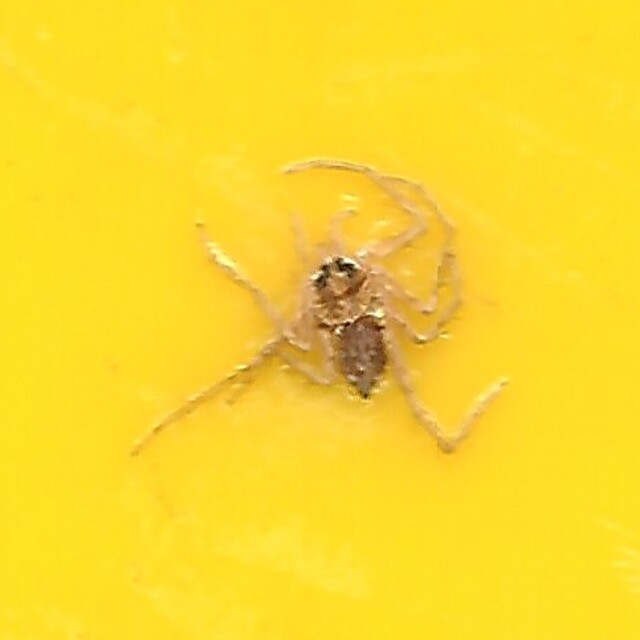Araneae: (133, 153, 507, 487)
